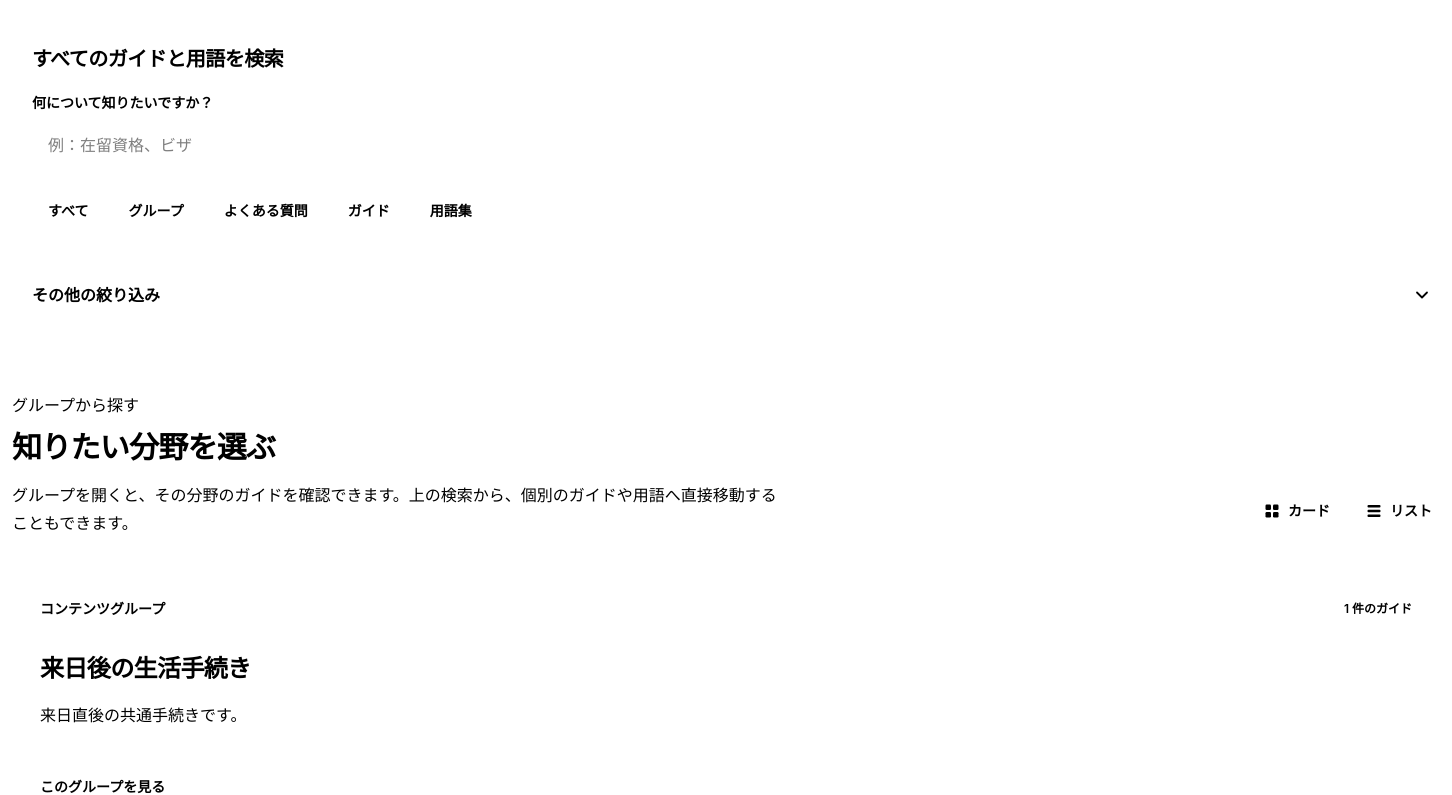
Test: ExploreDiscovery › localizes content groups and stable taxonomy labels in Japanese
The image size is (1452, 795).
Check: the heading "すべてのガイドと用語を検索" is shown, box top-left (32, 47), bottom-right (283, 71)
Click the heading "その他の絞り込み" at (96, 295), box top-left (32, 285), bottom-right (1432, 305)
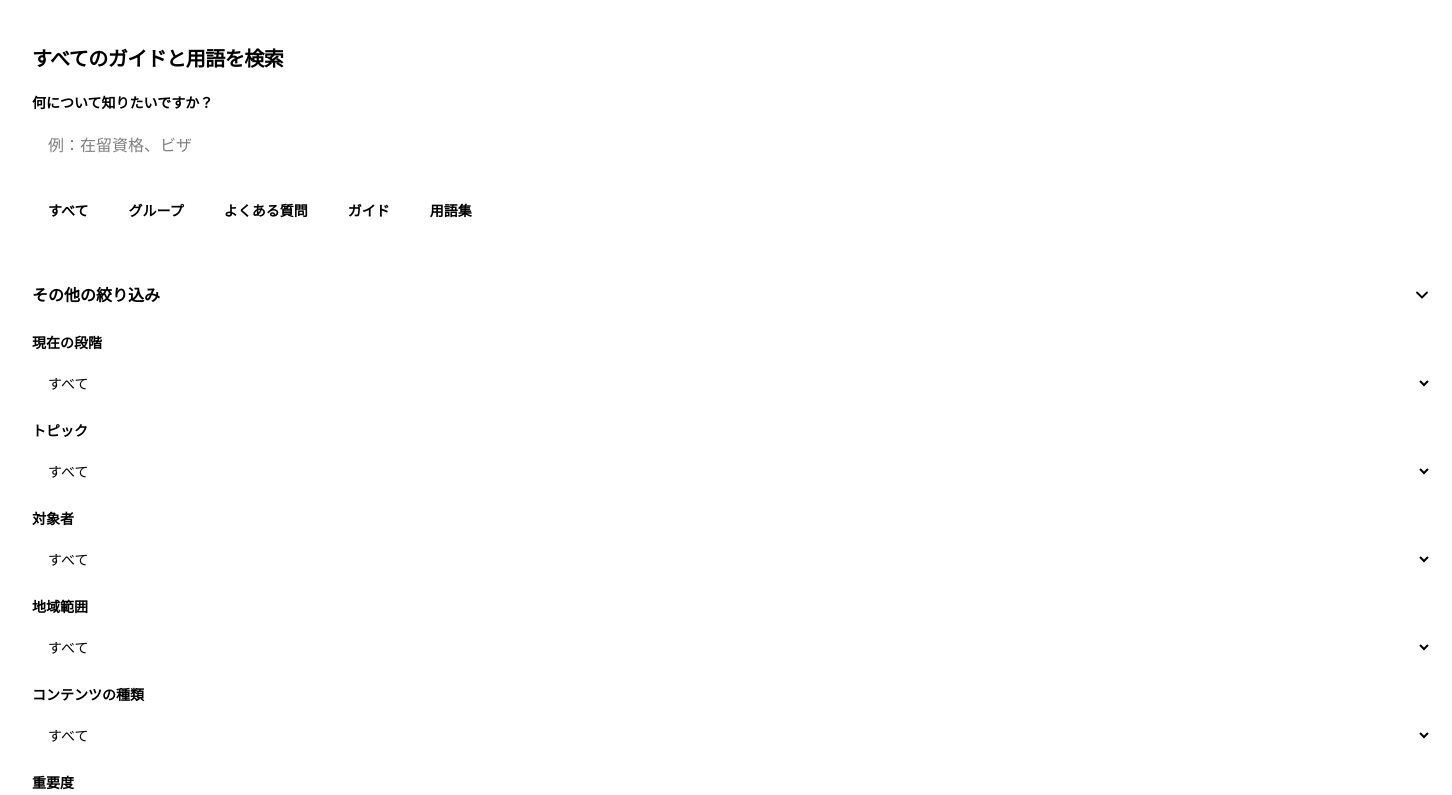
Type "query-with-no-matches" into the search field at (732, 145), box top-left (32, 121), bottom-right (1432, 169)
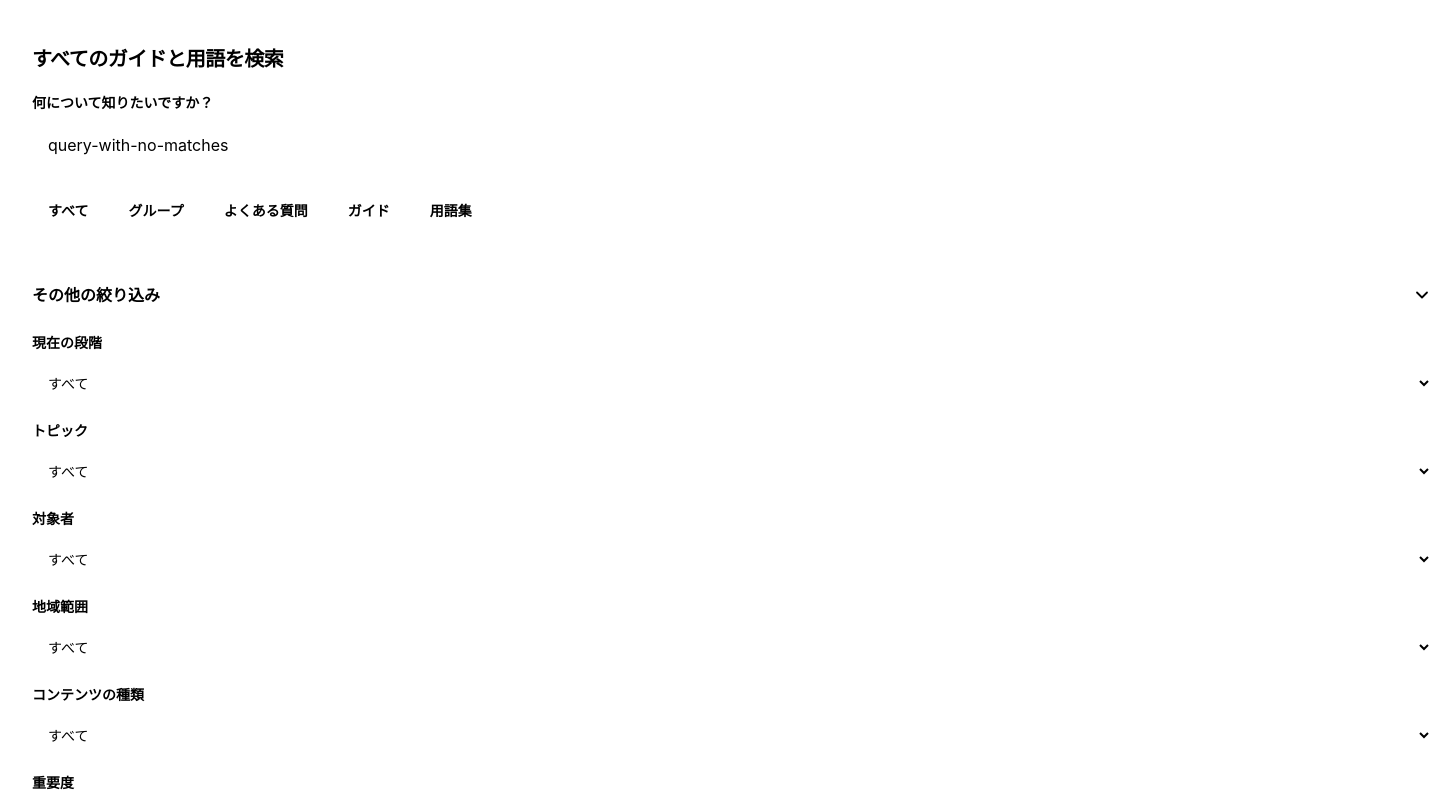
Leave the search field, box top-left (32, 121), bottom-right (1432, 169)
(page scrolled)
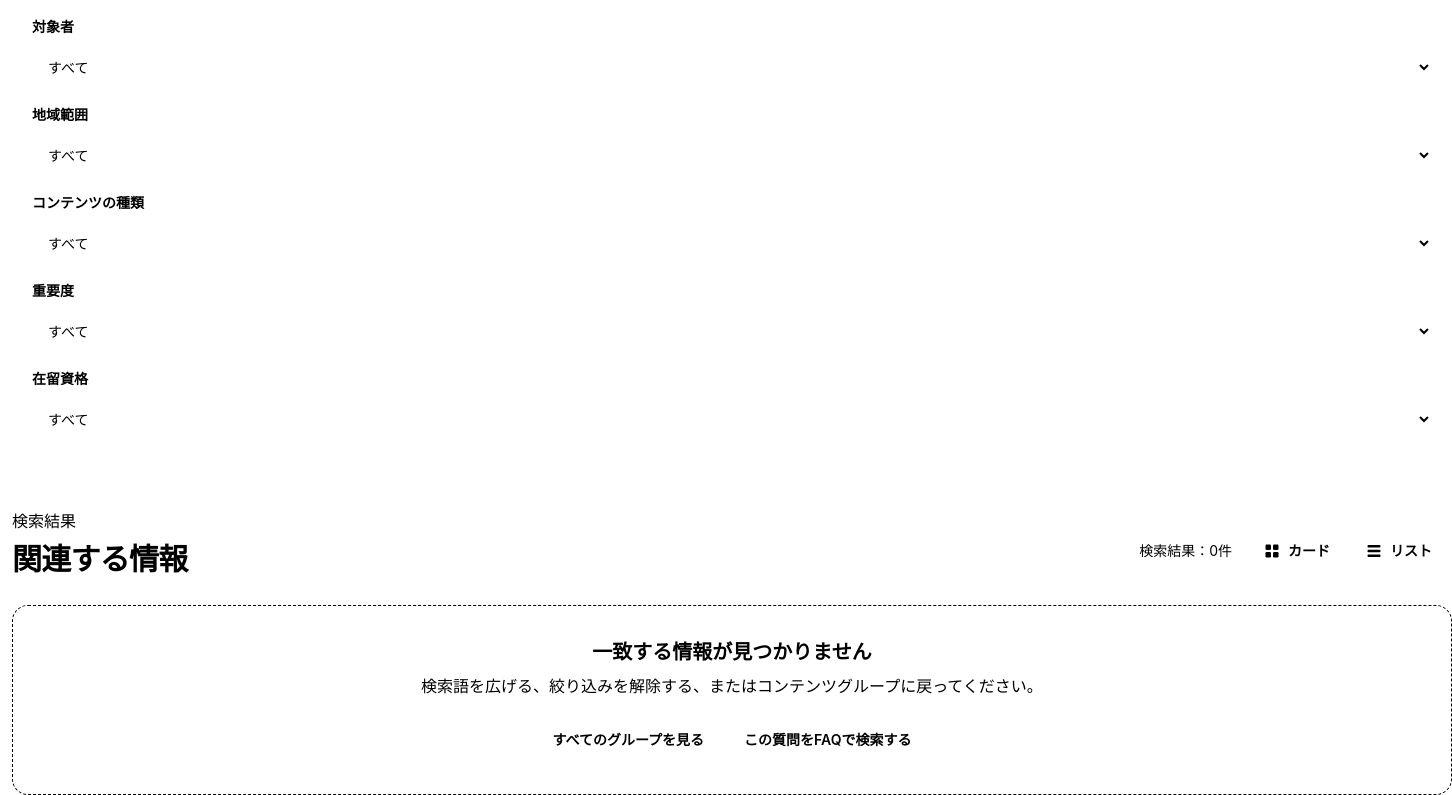
Check: the heading "一致する情報が見つかりません" is shown, box top-left (592, 640), bottom-right (872, 664)
Check: the button "すべてのグループを見る" is shown, box top-left (532, 718), bottom-right (724, 762)
Check: the link "この質問をFAQで検索する" is shown, box top-left (744, 731), bottom-right (912, 748)
